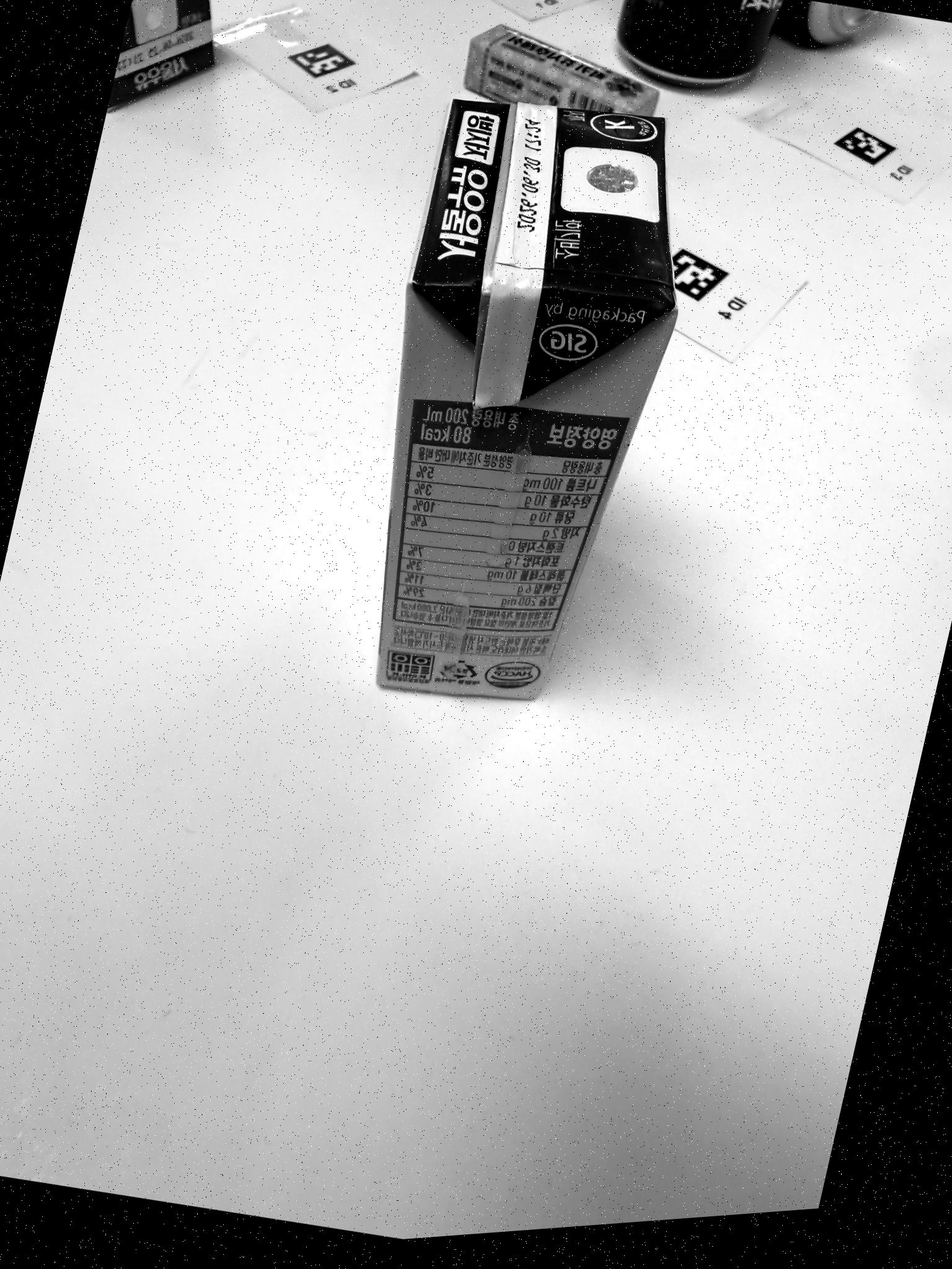milk_blue: (376, 101, 676, 700)
